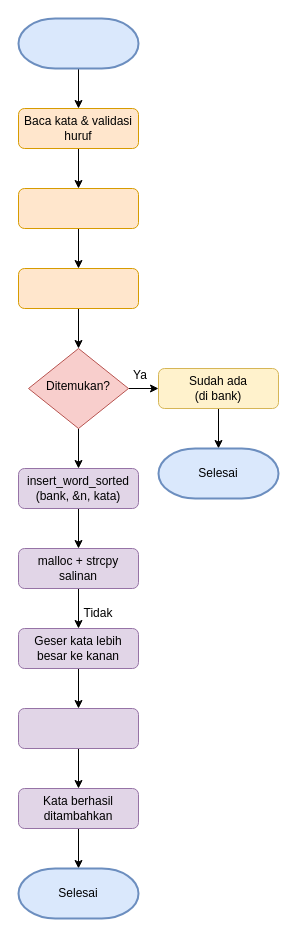
Image size: 296x936. Some labels were removed from this diagram. The shapes that lost their labels are listed below. From the top down, each one's box as (x1, y1, x2, y2) in pixels, then its label:
(17, 17, 139, 69): Mulai (pilih menu 3)
(18, 188, 138, 228): to_upper_str(kata)
(18, 268, 138, 308): binary_search_word (bank, kata)
(18, 708, 138, 748): Sisipkan di posisi, (*n)++
